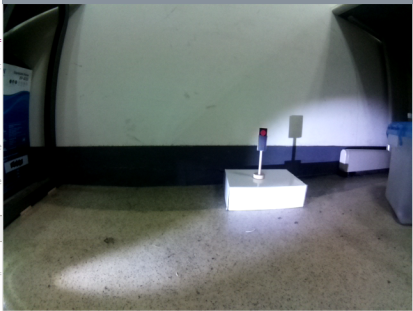Red: (256, 128, 270, 157)
